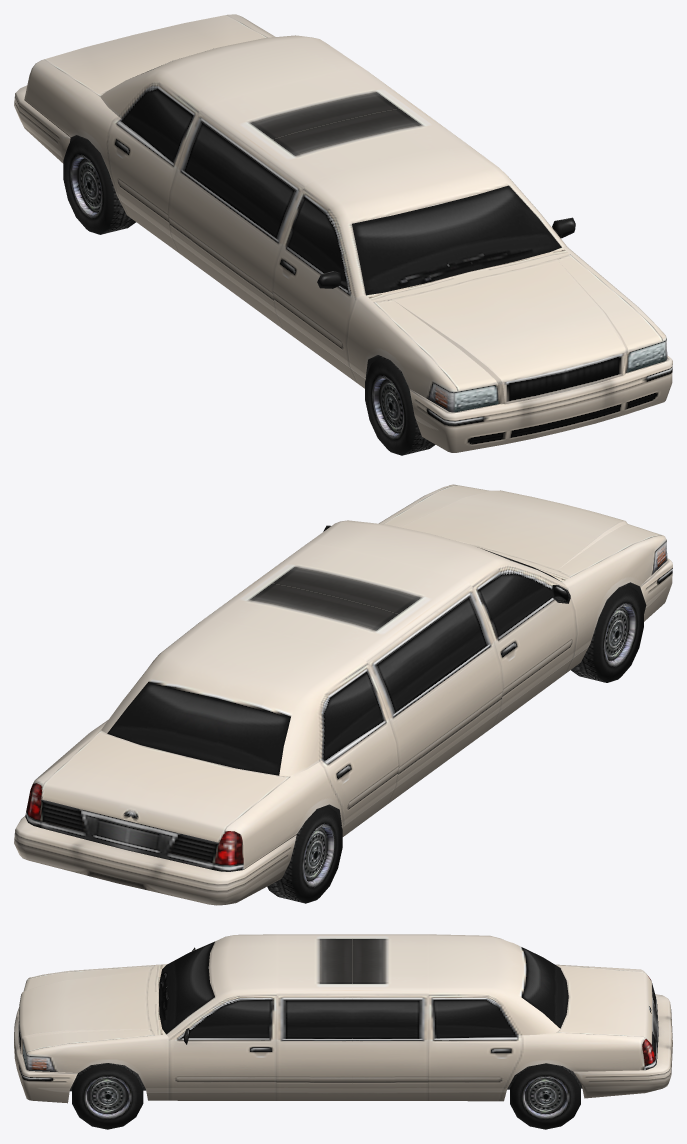
File: ny_limo.fbx
The picture shows the model from 3 angles, top to bottom: view 1: azimuth 30°, elevation 25°; view 2: azimuth 150°, elevation 25°; view 3: azimuth 270°, elevation 25°; orthographic projection. The views are drawn at different scales.
Parts seen in each view (by area): view 1: ny_limo; view 2: ny_limo; view 3: ny_limo.
Part boxes in pixels (x1,y1,x2,y2): ny_limo: (14, 14, 672, 455); ny_limo: (14, 484, 672, 905); ny_limo: (14, 934, 672, 1129).
Size of the model in its own units: 206 by 139 by 639.
